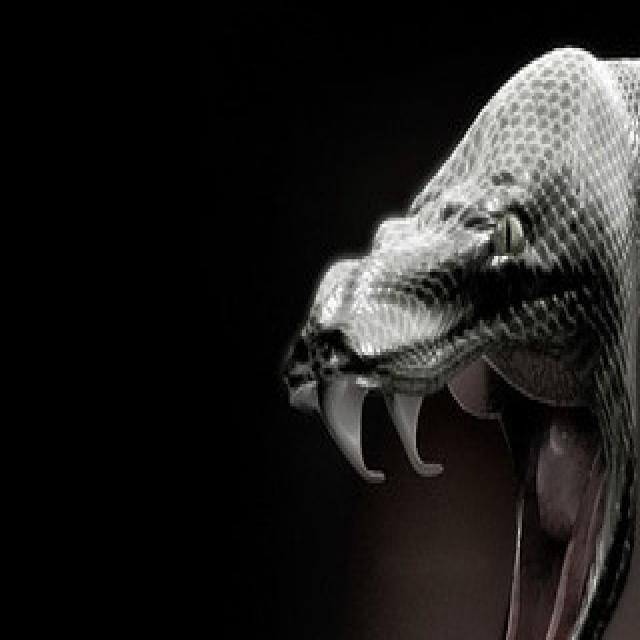Snake: (278, 38, 640, 640)
